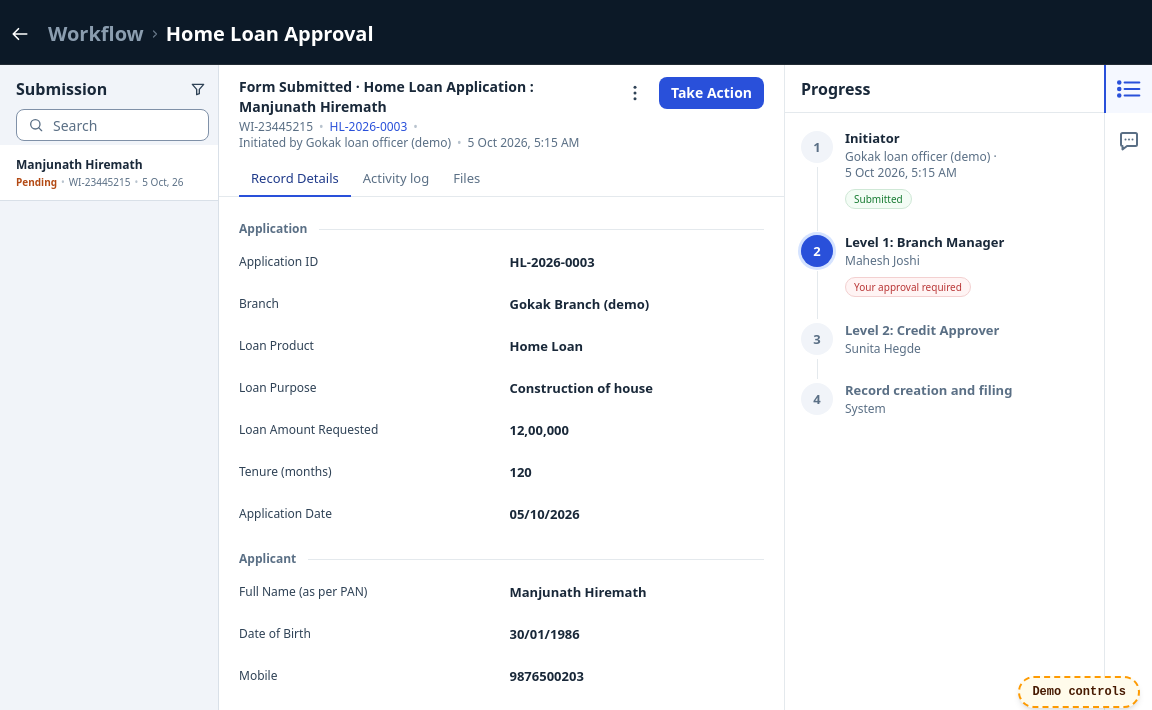
the form at Level 1 › lets Approve through with no comment, and has no sanction fields
Click the button "Take Action" at (711,93), box [659,77,764,109]
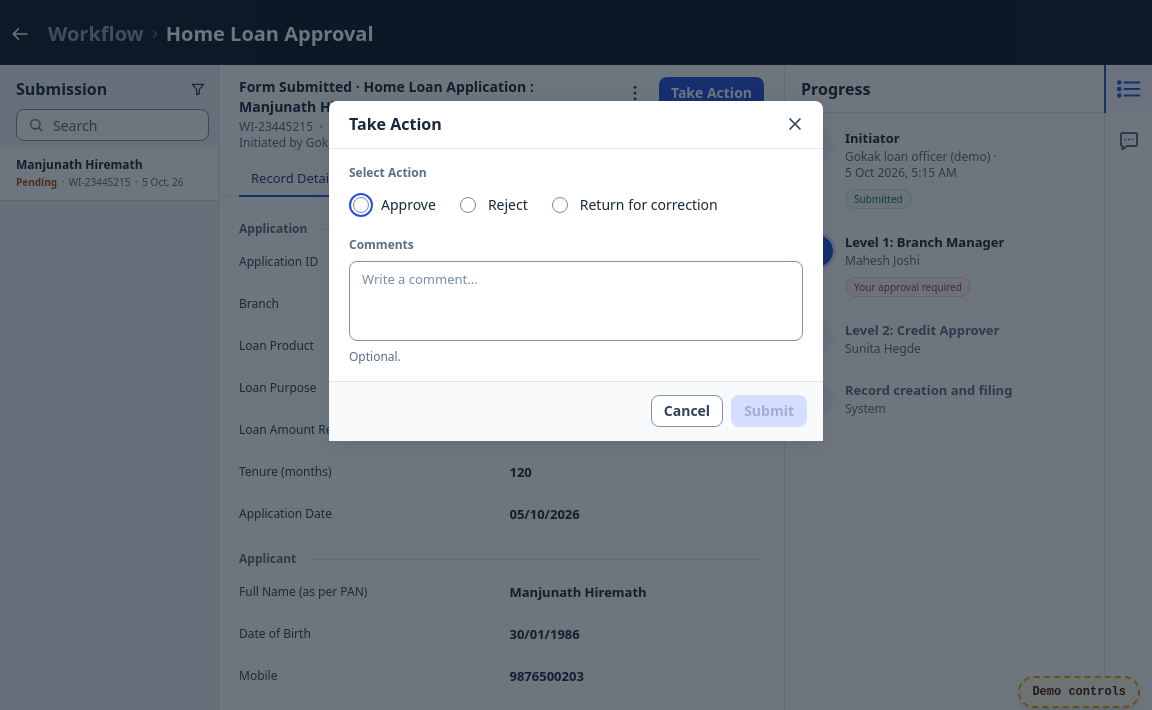
Click the radio button labelled "Approve" at (361,205), box [353,197,369,213]
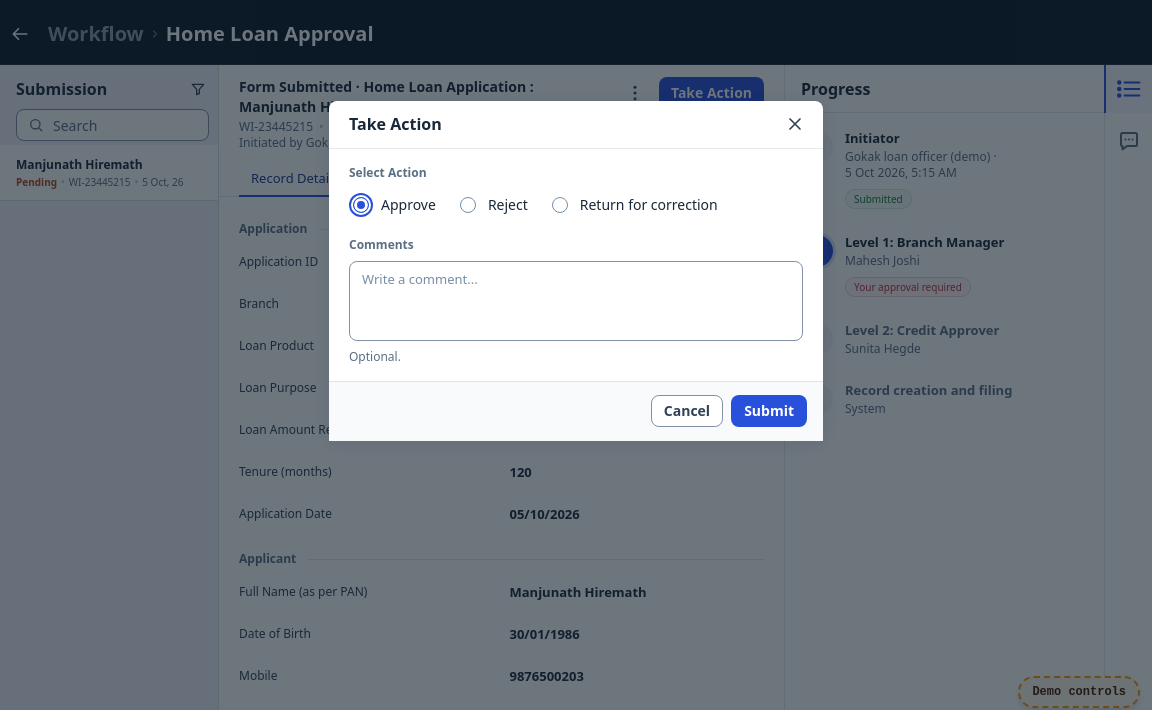
Result: the text "Optional." is shown at [349,348,401,365]
Result: the button "Submit" is enabled at [731,395,807,427]
